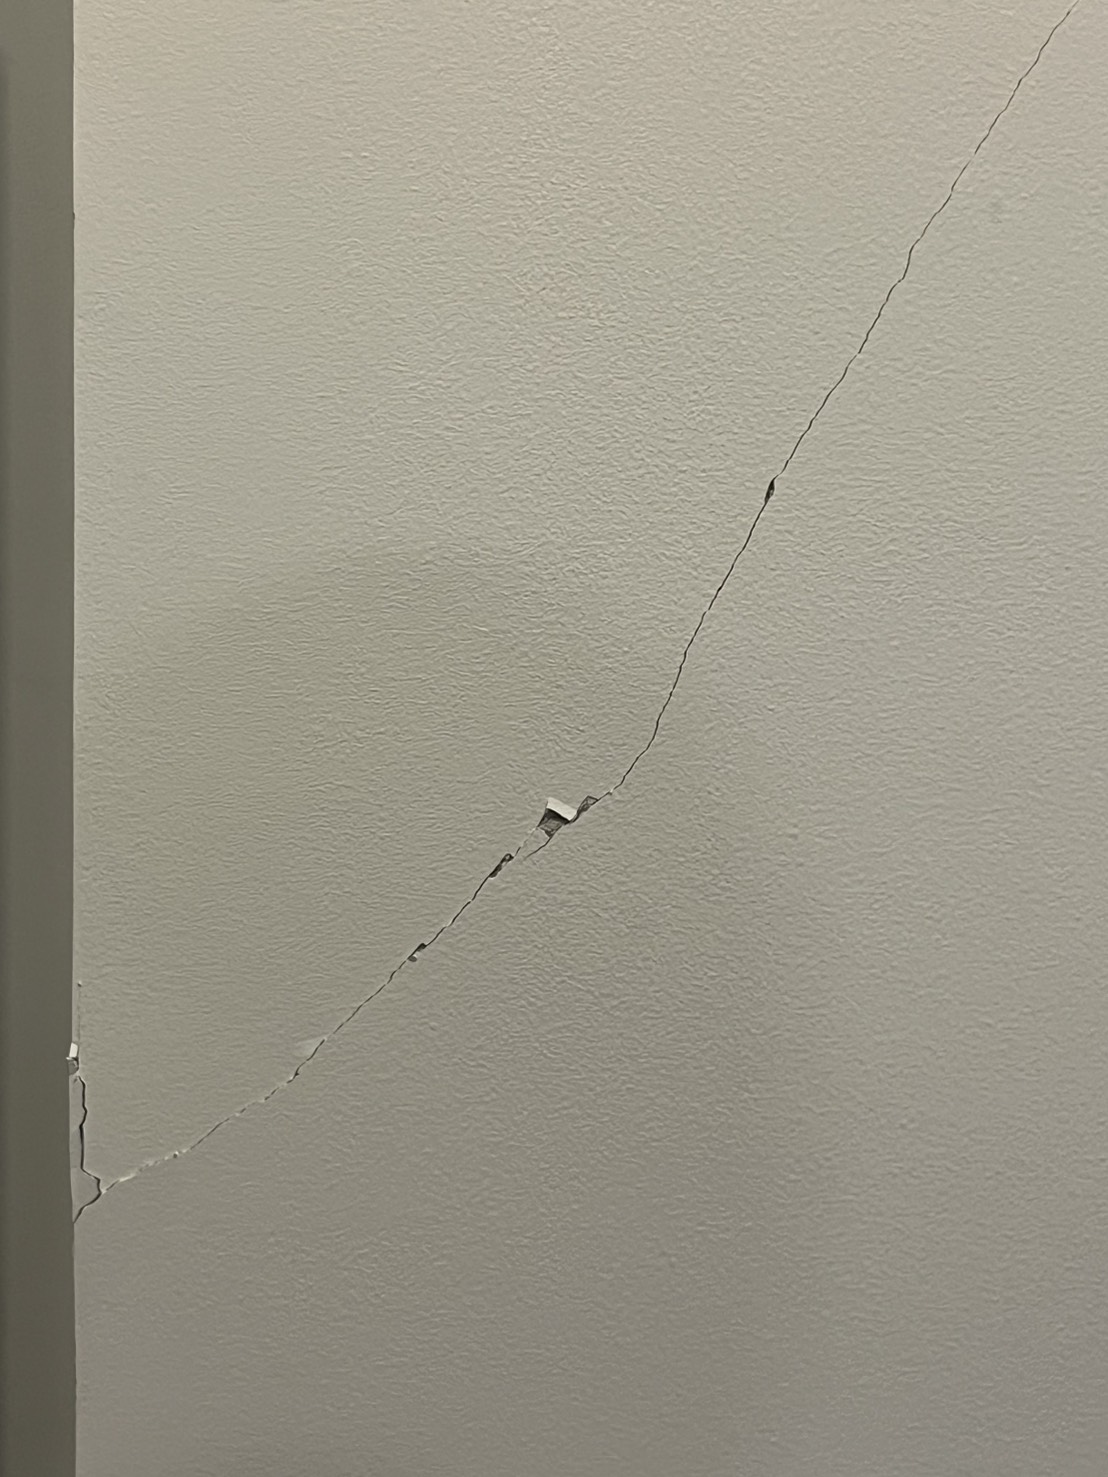Low: (83, 1, 1091, 1215)
